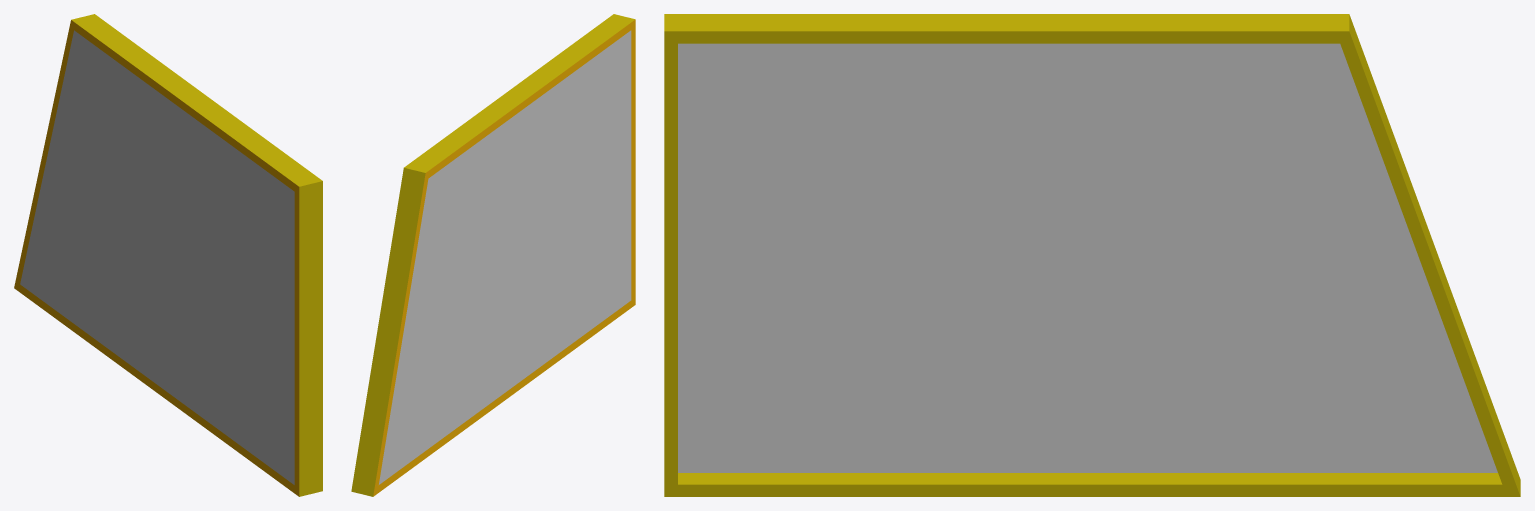
File: window_slanted_interface_4x1x3.dae
3 renders of one model, left to right at view 1: azimuth 30°, elevation 25°; view 2: azimuth 150°, elevation 25°; view 3: azimuth 270°, elevation 25°, orthographic. The views are drawn at different scales.
Parts seen in each view (by area): view 1: Cube; view 2: Cube; view 3: Cube.
Boxes of the visible parts, x1,y1,x2,y2 form: Cube: [14, 14, 322, 496]; Cube: [351, 14, 635, 496]; Cube: [664, 14, 1520, 496].
Bounding box in the file's own units: 0.06 × 1.25 × 0.75.
